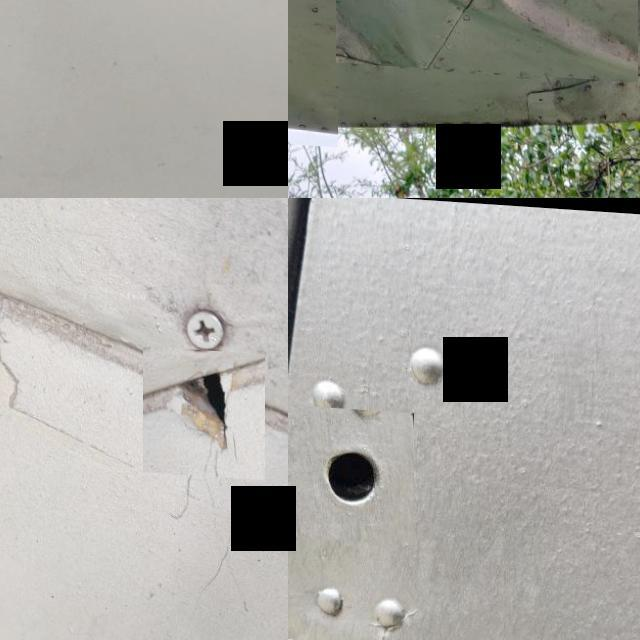Crack: (143, 342, 265, 474)
Dent: (336, 0, 637, 74), (288, 9, 338, 144)
Missing_Fastener: (288, 402, 413, 540)
